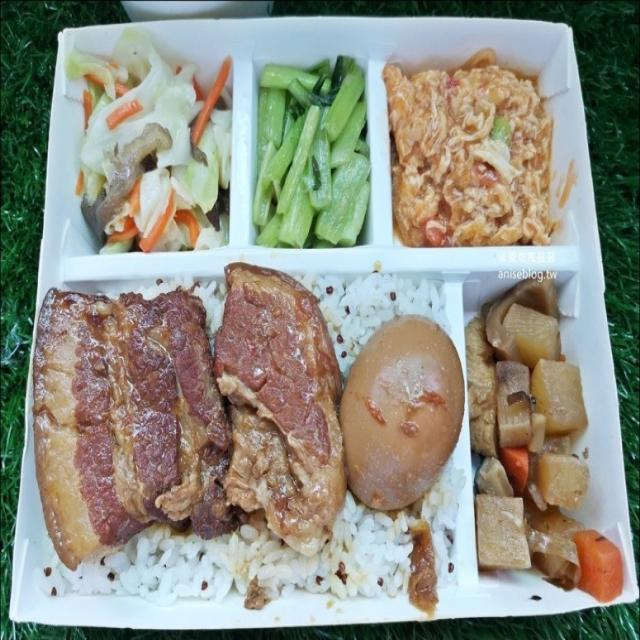Fushan-lettuce: (265, 72, 377, 240)
Scramble Egg with Tomatoes: (397, 62, 558, 245)
braised egg: (358, 334, 469, 499)
cabbage: (92, 66, 230, 232)
meat: (45, 295, 332, 507)
rice: (125, 555, 394, 586), (351, 282, 430, 313)
